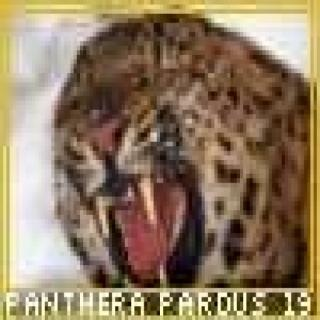Tiger: (36, 19, 301, 284)
